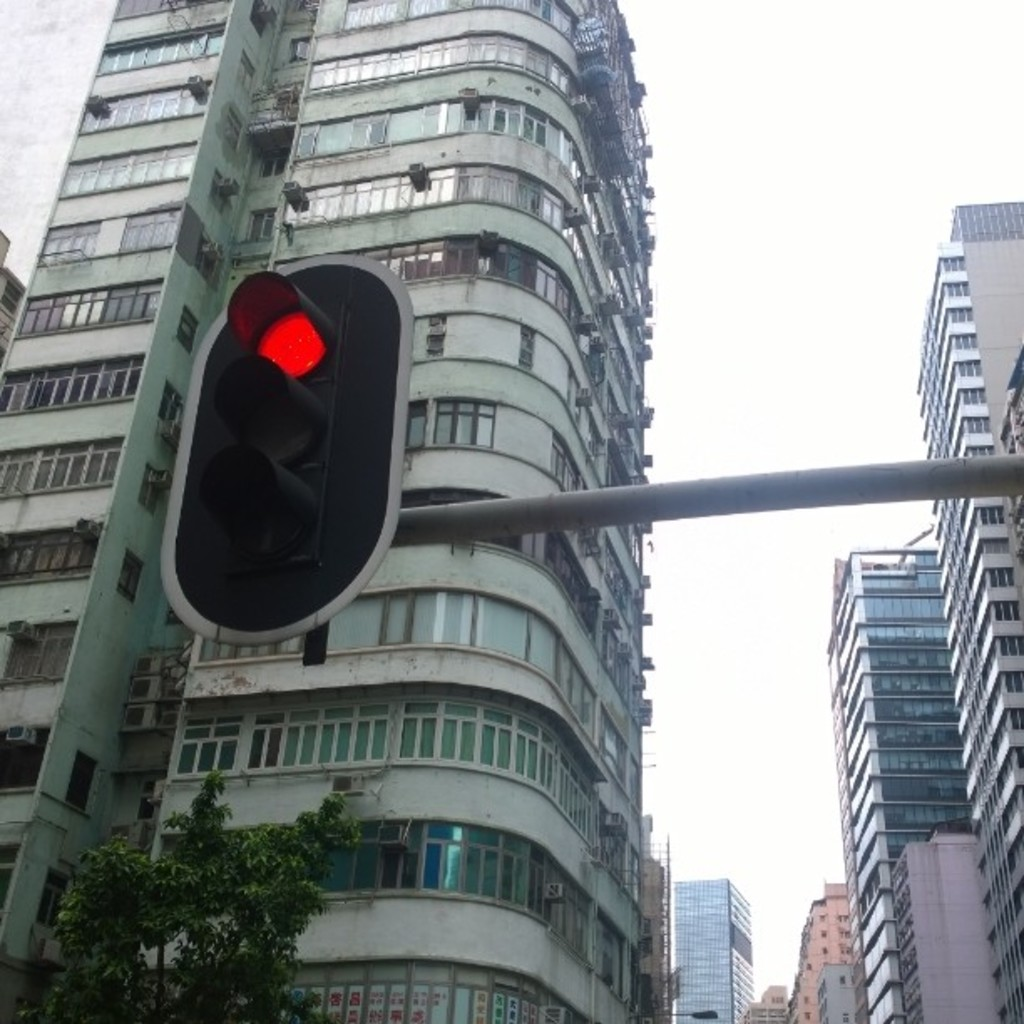red_light: (228, 269, 338, 571)
